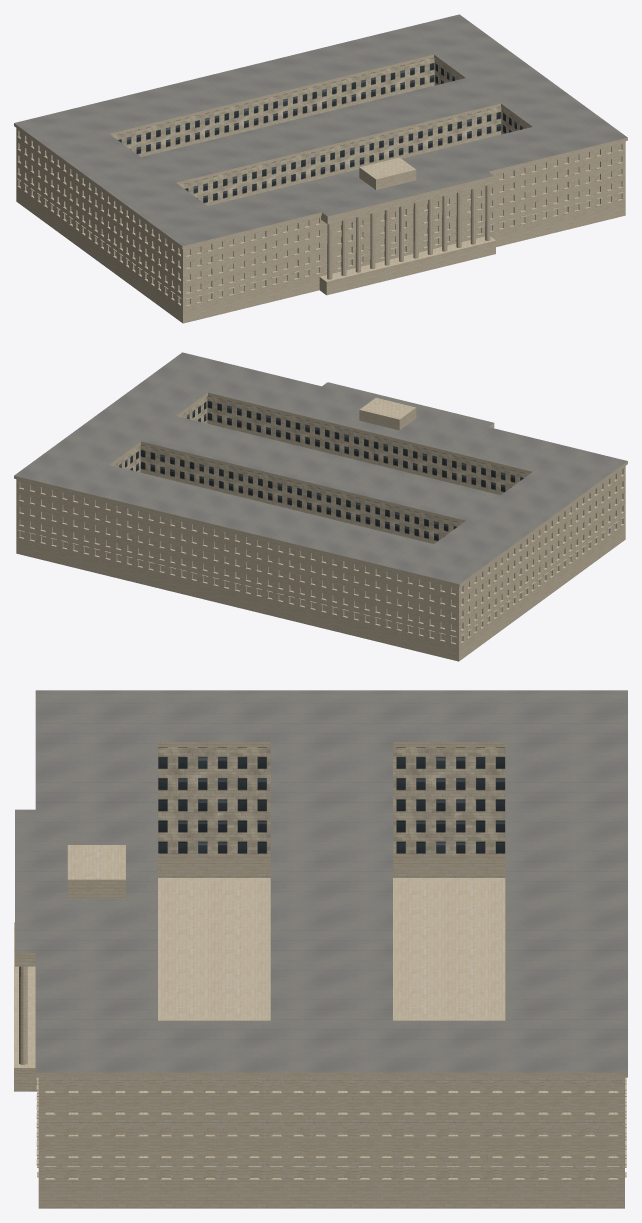
Rendered from bep_main.glb.
3 views of the same model, one above another, from view 1: azimuth 30°, elevation 25°; view 2: azimuth 150°, elevation 25°; view 3: azimuth 270°, elevation 25° (orthographic). The views are drawn at different scales.
Parts seen in each view (by area): view 1: bep_main; view 2: bep_main; view 3: bep_main.
Boxes of the visible parts, box(x1,y1,x2,y2) form: bep_main: box(14, 14, 627, 323); bep_main: box(14, 352, 627, 661); bep_main: box(14, 690, 627, 1208).
Size of the model in its own units: 155 by 29.59 by 105.
4 materials, 4 textured.
